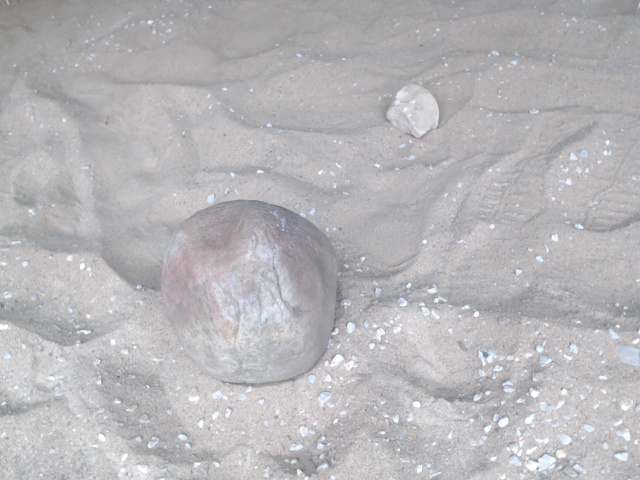rock: (152, 194, 346, 393), (380, 79, 444, 145)
